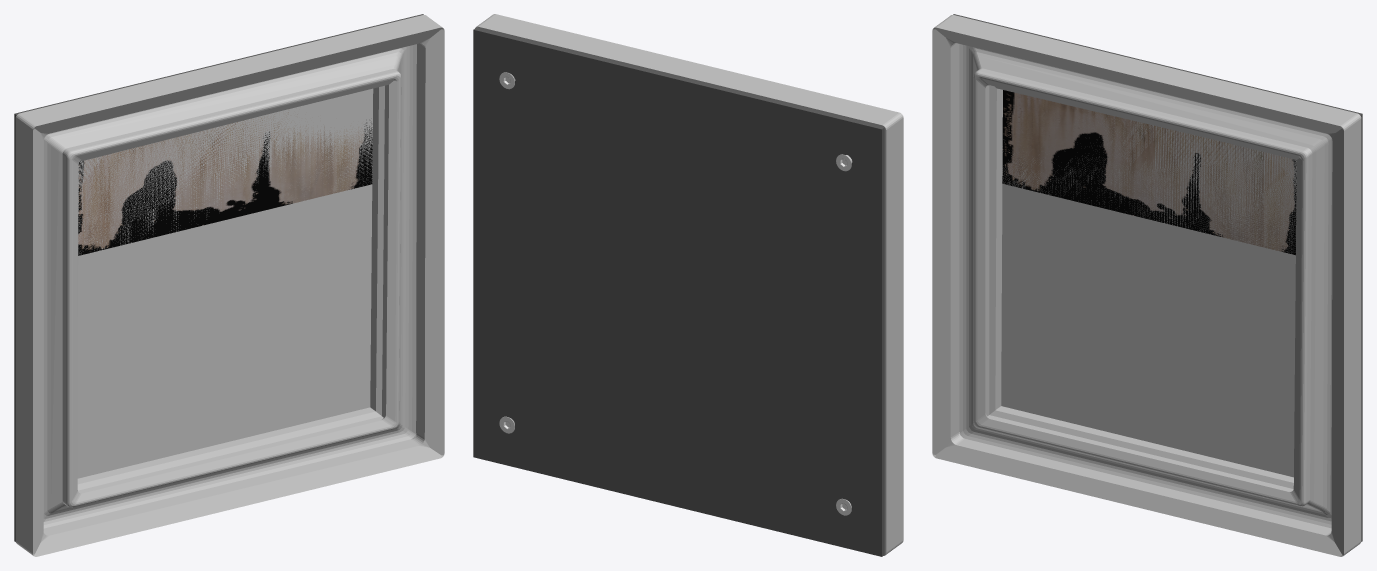
Rendered from Photo Frame.fbx.
The picture shows the model from 3 angles, left to right: view 1: azimuth 30°, elevation 25°; view 2: azimuth 150°, elevation 25°; view 3: azimuth 330°, elevation 25°; orthographic projection.
Visible parts, largest first — view 1: Picture, Frame, Frame.001, decals, Back Base; view 2: Back Base, Frame, Bolt.001; view 3: Picture, Frame, decals, Frame.001, Back Base.
Boxes of the visible parts, x1,y1,x2,y2 form: Picture: [77, 88, 373, 478]; Frame: [15, 15, 444, 556]; Frame.001: [43, 44, 416, 528]; decals: [78, 112, 372, 255]; Back Base: [14, 14, 423, 541]; Back Base: [473, 28, 884, 556]; Frame: [475, 14, 903, 555]; Bolt.001: [499, 72, 852, 515]; Picture: [1001, 111, 1296, 477]; Frame: [932, 15, 1361, 556]; decals: [1002, 90, 1296, 255]; Frame.001: [959, 44, 1332, 528]; Back Base: [953, 14, 1362, 541].
Size of the model in its own units: 200 by 200 by 18.38.
